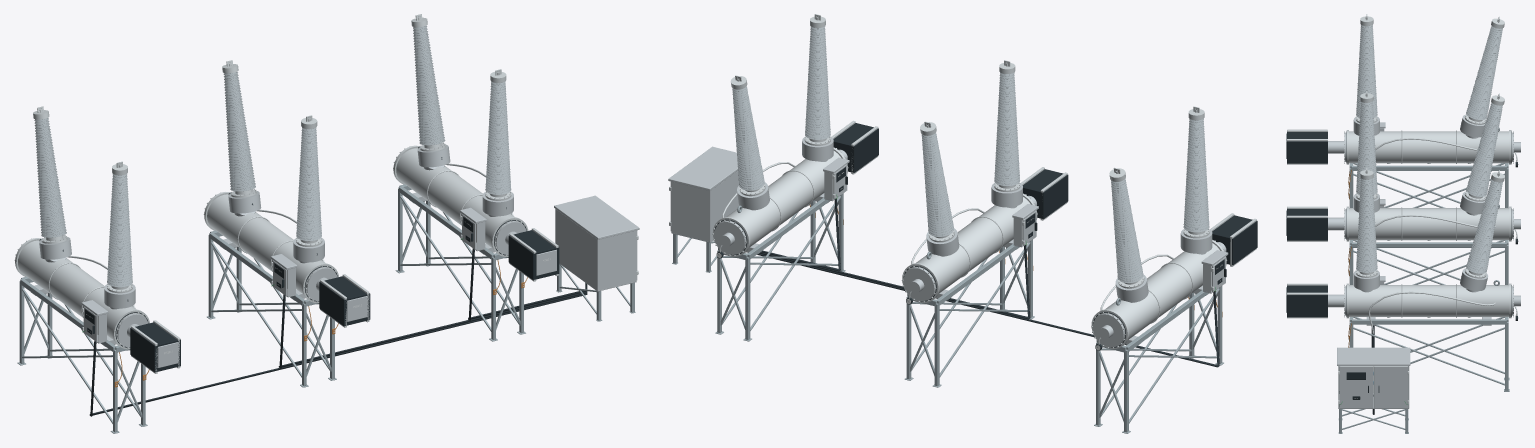
Rendered from independent-pole-breaker-assembled.glb.
The picture shows the model from 3 angles, left to right: view 1: azimuth 30°, elevation 25°; view 2: azimuth 150°, elevation 25°; view 3: azimuth 270°, elevation 25°; orthographic projection. The views are drawn at different scales.
Parts seen in each view (by area): view 1: Object100359, Object100187, Object100273, Object100513, Object100617, Object100565, Object100591, Object100487, Object100539, Object100064, Object100083, Object100082 (+8 smaller); view 2: Object100187, Object100273, Object100359, Object100487, Object100591, Object100539, Object100617, Object100513, Object100565, Object100085, Object100083, Object100274 (+12 smaller); view 3: Object100187, Object100359, Object100273, Object100513, Object100487, Object100565, Object100617, Object100070, Object100083, Object100069, Object100539, Object100591 (+19 smaller).
Boxes of the visible parts, left/top/right/bottom form: Object100359: left=18, top=240, right=136, bottom=339; Object100187: left=396, top=148, right=514, bottom=247; Object100273: left=207, top=194, right=325, bottom=293; Object100513: left=413, top=25, right=445, bottom=145; Object100617: left=34, top=118, right=66, bottom=237; Object100565: left=223, top=72, right=255, bottom=191; Object100591: left=107, top=174, right=132, bottom=287; Object100487: left=485, top=81, right=511, bottom=194; Object100539: left=296, top=127, right=321, bottom=241; Object100064: left=555, top=209, right=597, bottom=290; Object100083: left=554, top=195, right=639, bottom=239; Object100082: left=598, top=230, right=636, bottom=290; Object100187: left=726, top=151, right=840, bottom=247; Object100273: left=916, top=197, right=1030, bottom=293; Object100359: left=1105, top=243, right=1219, bottom=339; Object100487: left=805, top=26, right=830, bottom=139; Object100591: left=1183, top=118, right=1209, bottom=232; Object100539: left=994, top=72, right=1019, bottom=186; Object100617: left=1111, top=178, right=1143, bottom=283; Object100513: left=732, top=86, right=764, bottom=190; Object100565: left=921, top=133, right=953, bottom=236; Object100085: left=671, top=181, right=710, bottom=241; Object100083: left=668, top=146, right=737, bottom=190; Object100274: left=1022, top=169, right=1068, bottom=219; Object100187: left=1349, top=285, right=1508, bottom=316; Object100359: left=1349, top=131, right=1508, bottom=163; Object100273: left=1349, top=208, right=1508, bottom=240; Object100513: left=1466, top=179, right=1502, bottom=273; Object100487: left=1356, top=178, right=1377, bottom=272; Object100565: left=1466, top=102, right=1502, bottom=196; Object100617: left=1466, top=25, right=1502, bottom=119; Object100070: left=1374, top=366, right=1408, bottom=408; Object100083: left=1337, top=347, right=1410, bottom=365; Object100069: left=1339, top=366, right=1373, bottom=408; Object100539: left=1356, top=101, right=1377, bottom=194; Object100591: left=1356, top=24, right=1377, bottom=117.
Bounding box in the file's own units: 13.7 × 6.4 × 6.3.
